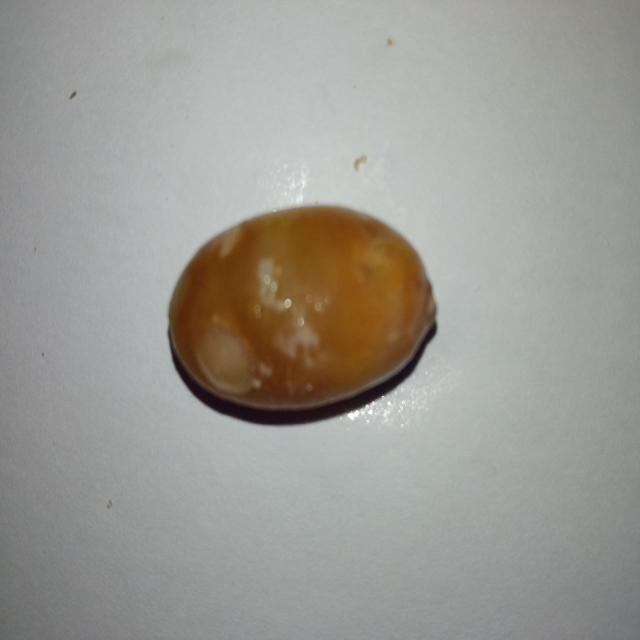rotten_grape: (165, 207, 435, 410)
